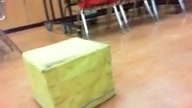cube: (22, 37, 117, 108)
